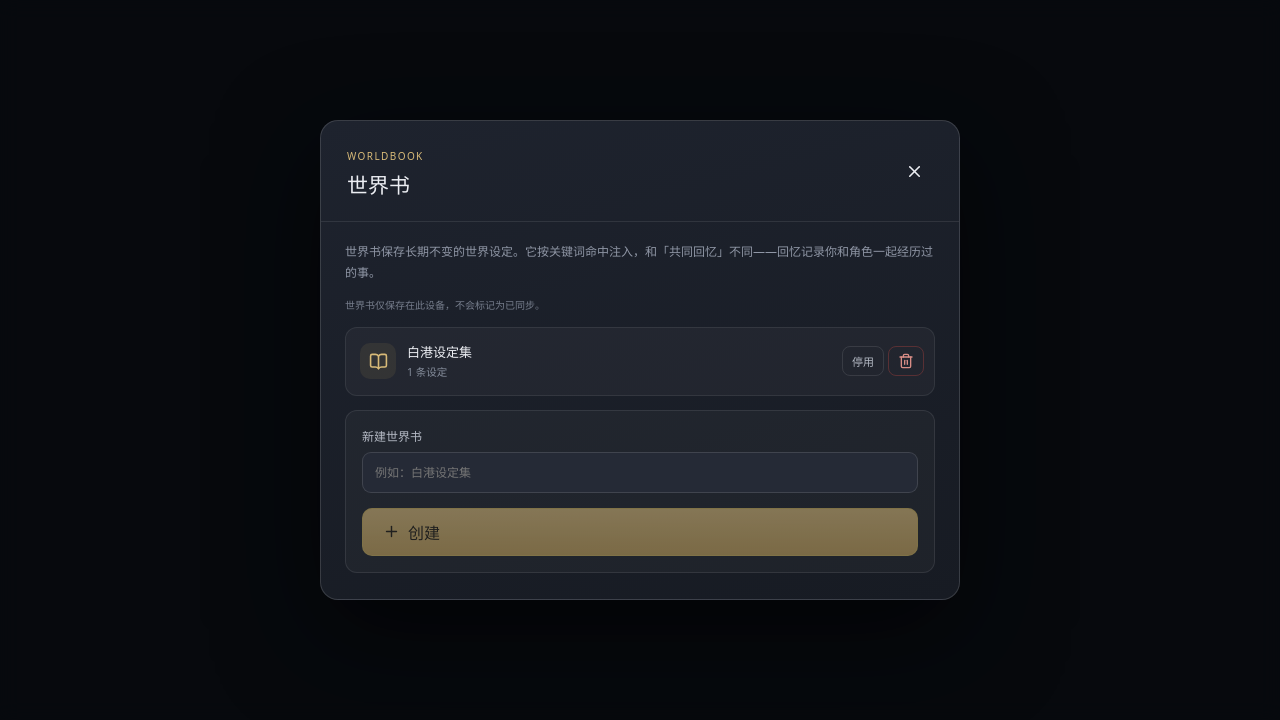
Test: WorldbookPanel › switches a whole book off without touching its entries
Click the button with aria-label "停用世界书 白港设定集" at (863, 361), box 842,346 -> 884,376
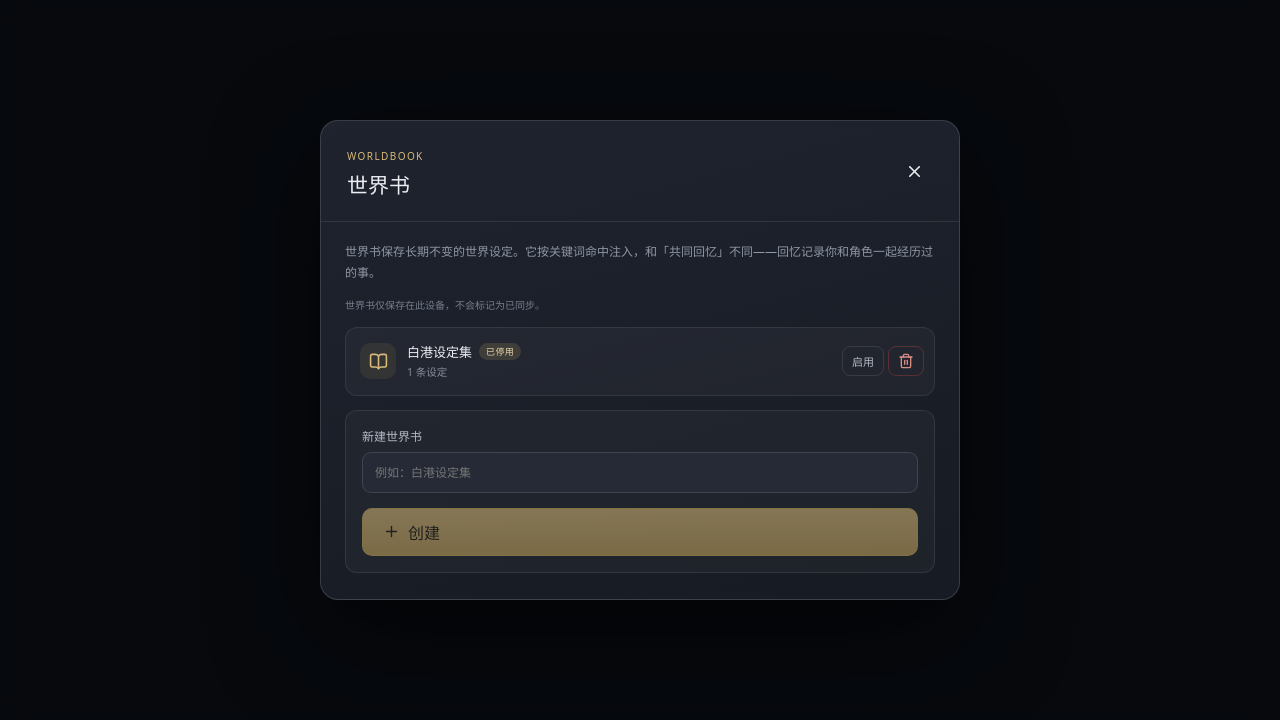
Expected: the text "已停用" is shown, 479,343 -> 521,360
